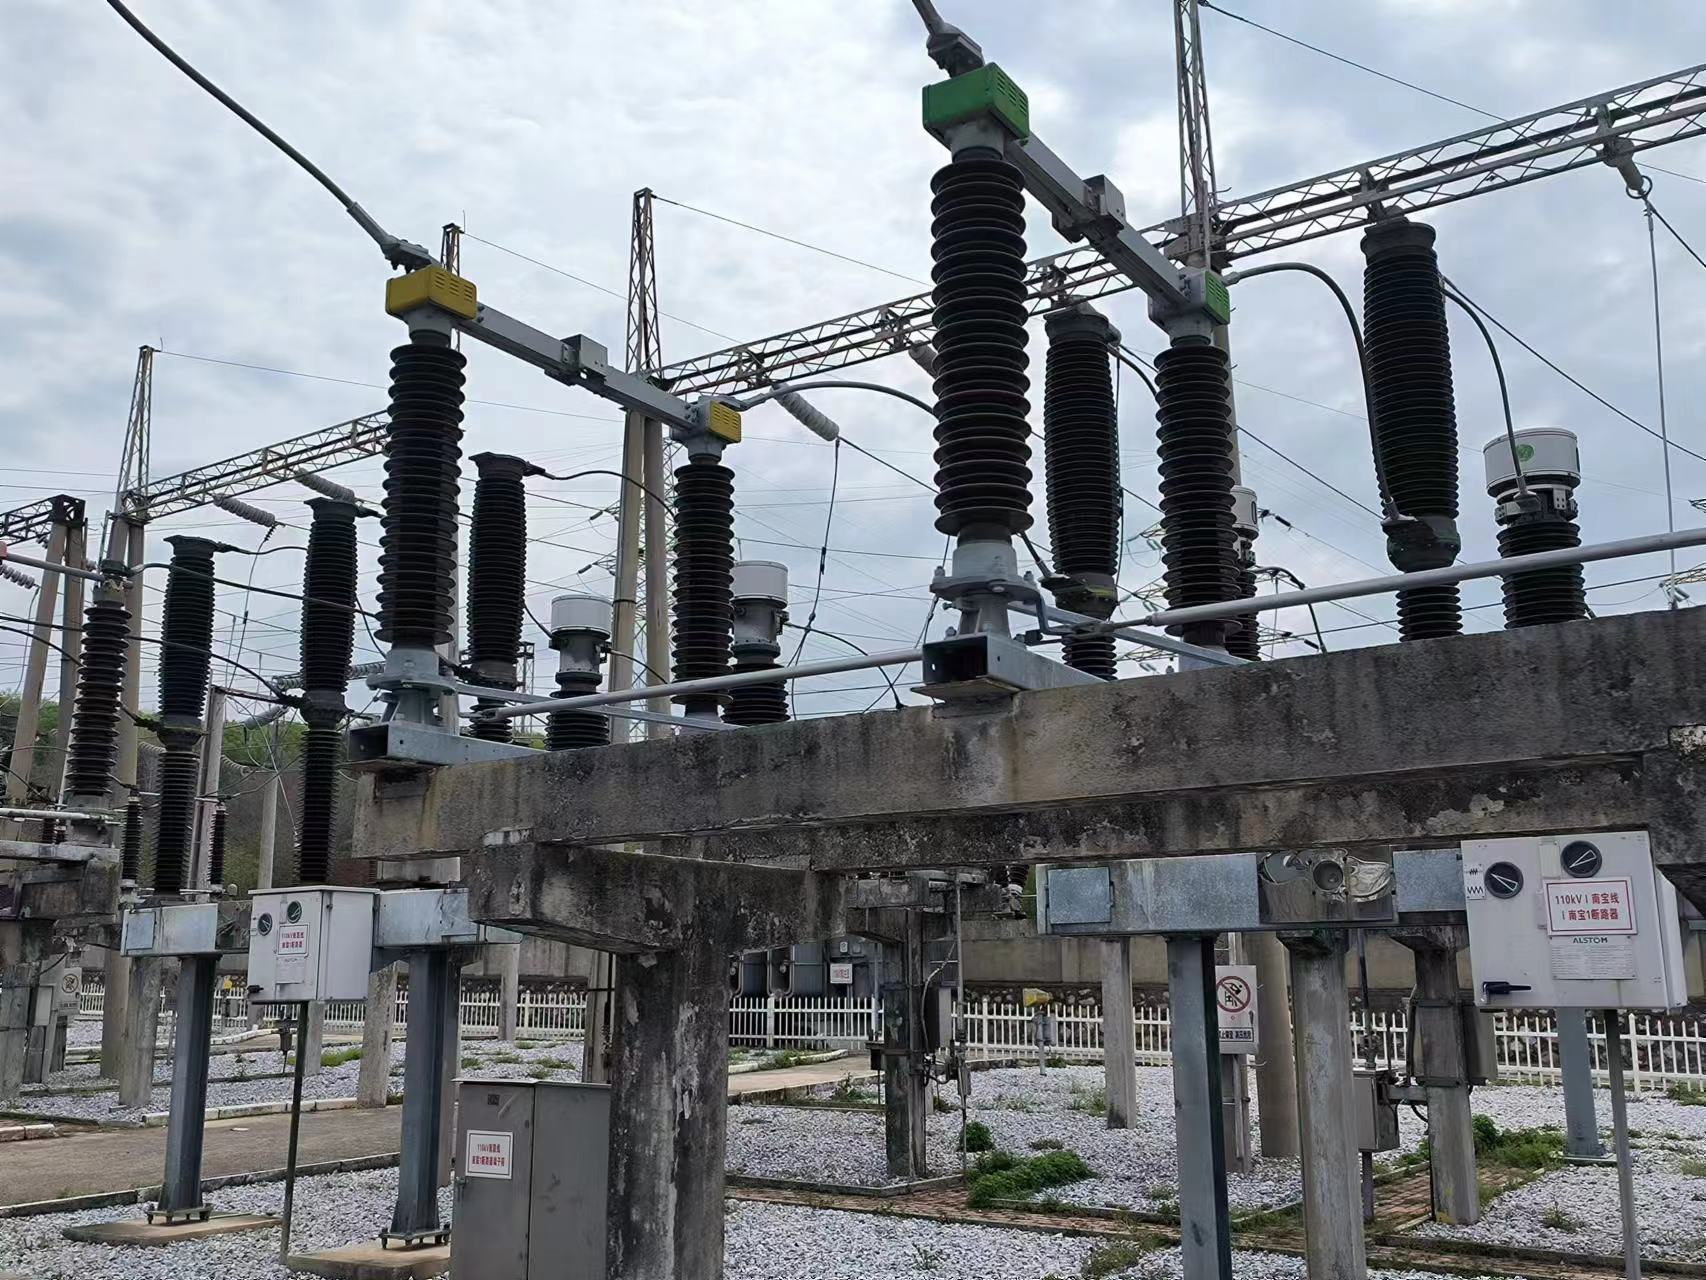Circuit-breaker: (145, 532, 233, 902), (285, 495, 367, 885)
Disconnecting link: (877, 48, 1299, 670), (354, 237, 796, 745)
